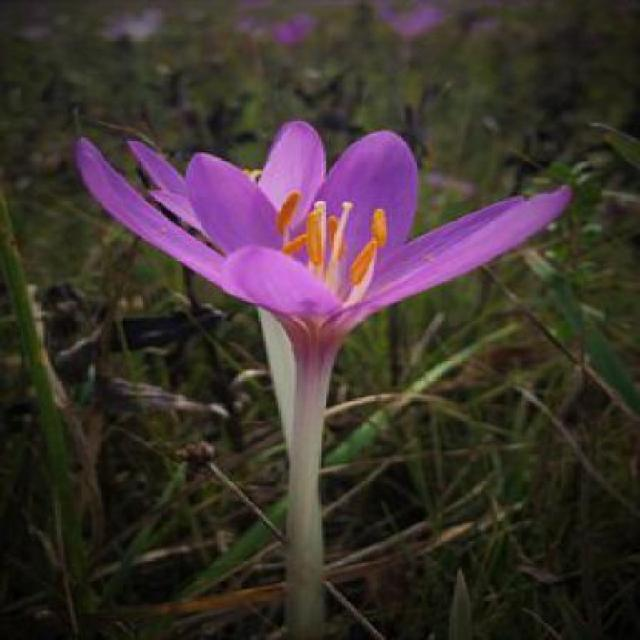saffron open: (76, 120, 571, 640)
